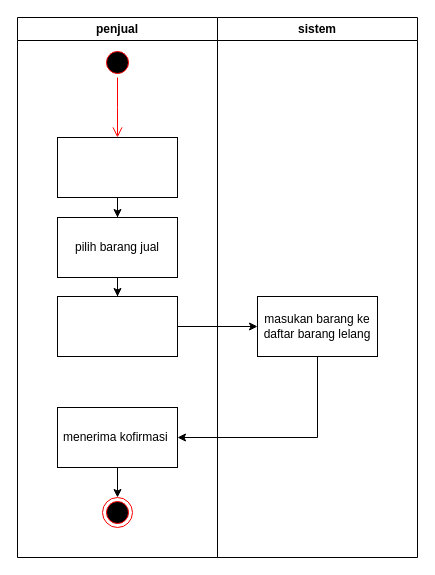
Some shapes in this 435 by 575 pixel diagram are drawn without their labels. The shapes that lost their labels are listed below. From the top down, each one's centre as x and y in pixels, then its label:
At point (117, 167): "masuk ke halaman toko".
At point (117, 326): "pilih opsi lelang".
